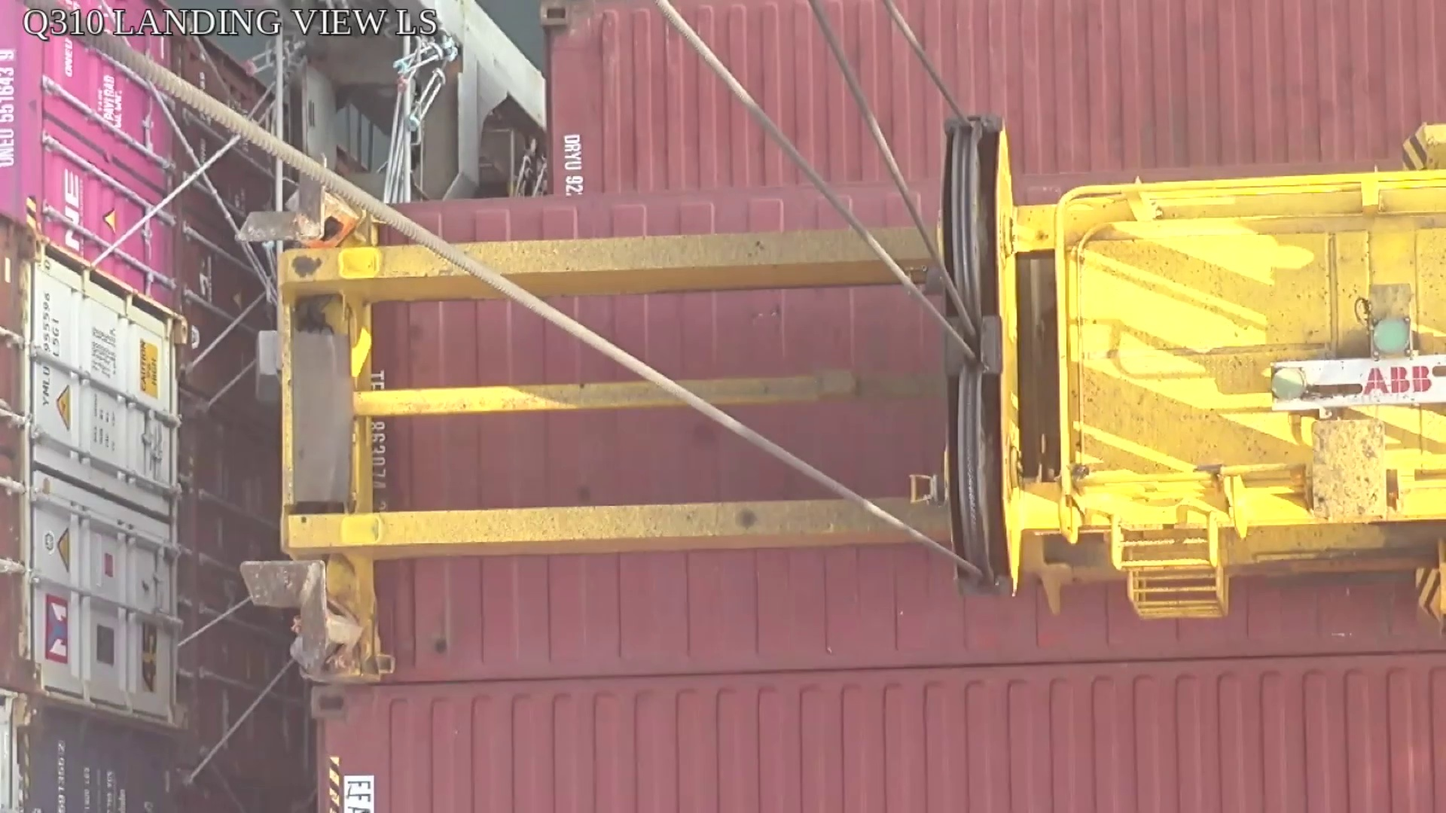aa: (938, 117, 1029, 598)
